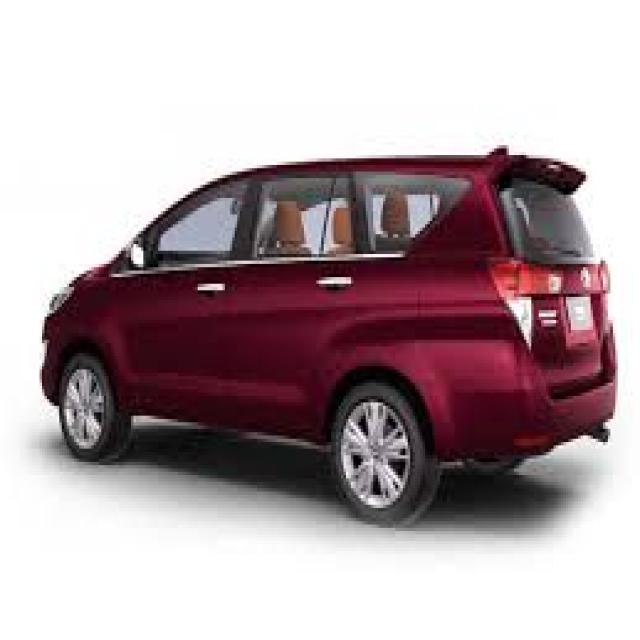light_vehicle: (40, 146, 617, 526)
